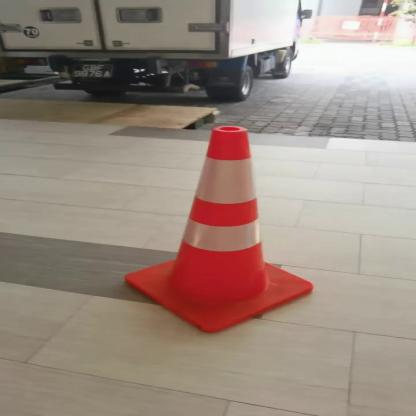cone: (102, 123, 347, 332)
